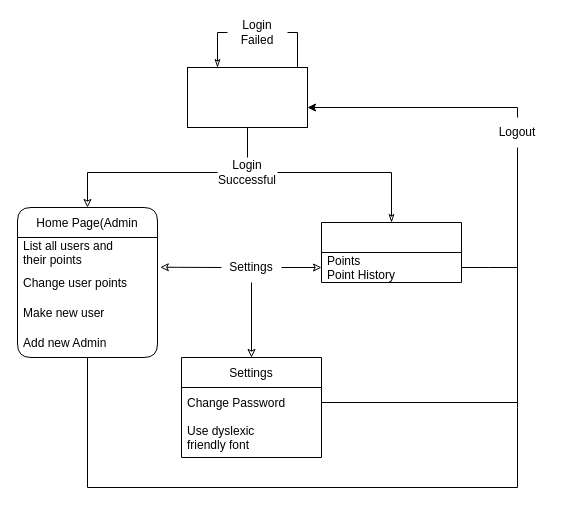
This 565x506 diagram has some shape labels left out. The shapes that lost their labels are listed below. From the top down, each one's box as (x1, y1, x2, y2) in pixels, then its label:
(186, 66, 308, 128): Login Page
(320, 222, 462, 282): Home Page(User)
